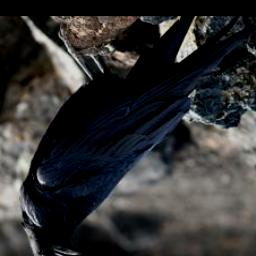Crow: (17, 17, 256, 256)
